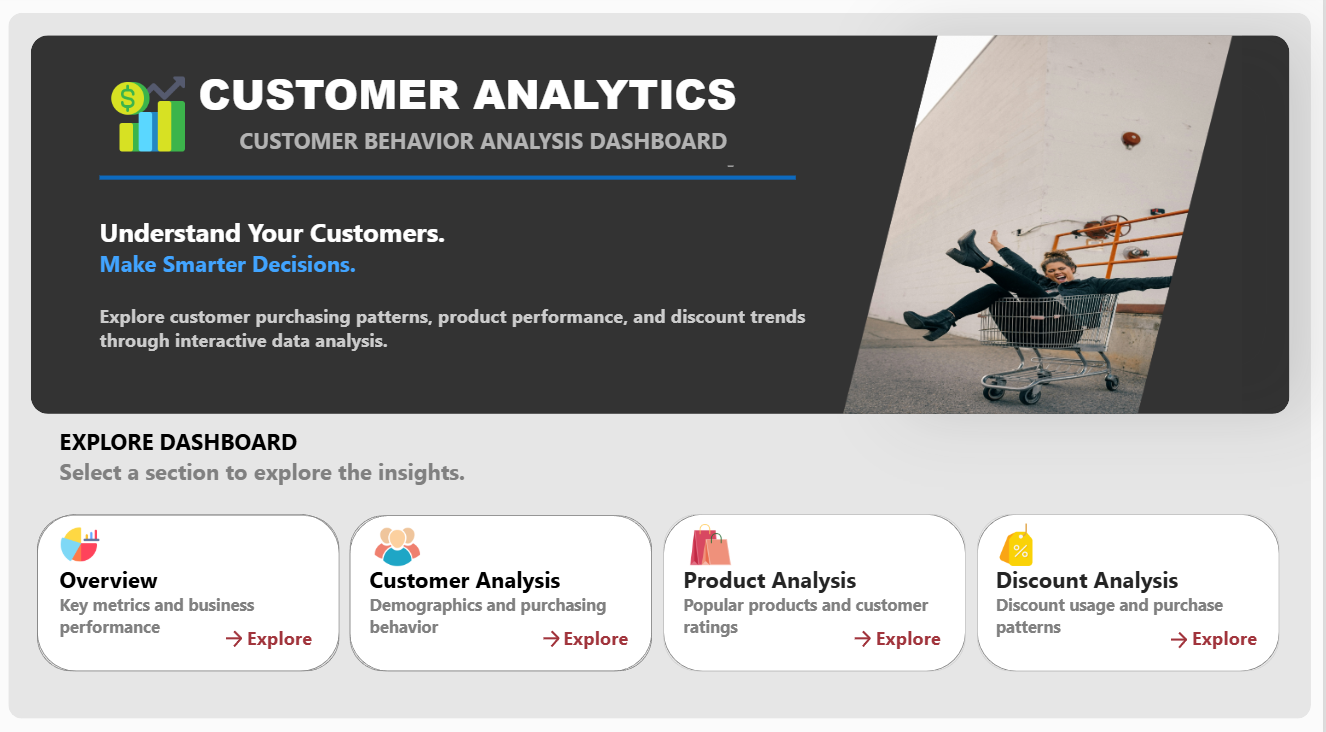

The dashboard page shown, as its layout file describes it:
{"tool":"powerbi","page":{"name":"Landing Page","canvas":[1920,1080],"ordinal":0},"visuals":[{"type":"shape","box":[16,28,1886,1022],"z":0},{"type":"shape","box":[48,60,1822.3,548.3],"z":1000},{"type":"textbox","title":"CUSTOMER ANALYTICS","box":[282,100,798,90],"z":2000},{"type":"textbox","title":"CUSTOMER BEHAVIOR ANALYSIS DASHBOARD","box":[342,190,724,60],"z":3000},{"type":"textbox","box":[148,318,1078,250],"z":4000},{"type":"textbox","box":[90.5,626.1,608,105],"z":5000},{"type":"shape","box":[57.9,752.8,437.9,228],"z":6000},{"type":"shape","box":[510.3,754.6,437.9,226.2],"z":7000},{"type":"shape","box":[964.5,752.8,437.9,228],"z":8000},{"type":"shape","box":[1418.8,752.8,437.9,228],"z":9000},{"type":"textbox","box":[90,826,390,132],"z":10000},{"type":"textbox","box":[540,826,382,132],"z":11000},{"type":"textbox","box":[994,826,384,132],"z":12000},{"type":"textbox","box":[1446,826,386,108],"z":13000},{"type":"image","box":[92,760,56,74],"z":14000},{"type":"image","box":[536,768,88,66],"z":15000},{"type":"image","box":[1000,768,64,60],"z":16000},{"type":"image","box":[1444,760,62,74],"z":17000},{"type":"image","box":[156,98,126,152],"z":18000},{"type":"image","box":[1210,60,592,548],"z":19000},{"type":"shape","box":[148,116,1008,300],"z":20000},{"type":"actionButton","box":[294,914,98,40],"z":21000},{"type":"textbox","box":[362,914,102,44],"z":22000},{"type":"textbox","box":[772,924,126,74],"z":23000},{"type":"textbox","box":[820,914,102,44],"z":24000},{"type":"actionButton","box":[752,914,98,40],"z":25000},{"type":"textbox","box":[1272,914,102,44],"z":26000},{"type":"actionButton","box":[1204,914,98,40],"z":27000},{"type":"textbox","box":[1730,914,102,44],"z":28000},{"type":"actionButton","box":[1662,916,98,40],"z":29000},{"type":"actionButton","box":[58,754,438,226],"z":30000},{"type":"actionButton","box":[510,754,438,226],"z":31000},{"type":"actionButton","box":[964,752,438,228],"z":32000},{"type":"actionButton","box":[1418,752,438,228],"z":33000}]}

Visuals, with their boxes in screenshot pixels (x1, y1, x2, y2), scaled from the page's 1920x1080 canvas onto the 1326x732 screenshot:
shape: rect(11, 19, 1314, 712)
shape: rect(33, 41, 1292, 412)
"CUSTOMER ANALYTICS" textbox: rect(195, 68, 746, 129)
"CUSTOMER BEHAVIOR ANALYSIS DASHBOARD" textbox: rect(236, 129, 736, 169)
textbox: rect(102, 216, 847, 385)
textbox: rect(63, 424, 482, 496)
shape: rect(40, 510, 342, 665)
shape: rect(352, 511, 655, 665)
shape: rect(666, 510, 969, 665)
shape: rect(980, 510, 1282, 665)
textbox: rect(62, 560, 332, 649)
textbox: rect(373, 560, 637, 649)
textbox: rect(686, 560, 952, 649)
textbox: rect(999, 560, 1265, 633)
image: rect(64, 515, 102, 565)
image: rect(370, 521, 431, 565)
image: rect(691, 521, 735, 561)
image: rect(997, 515, 1040, 565)
image: rect(108, 66, 195, 169)
image: rect(836, 41, 1245, 412)
shape: rect(102, 79, 798, 282)
actionButton: rect(203, 619, 271, 647)
textbox: rect(250, 619, 320, 649)
textbox: rect(533, 626, 620, 676)
textbox: rect(566, 619, 637, 649)
actionButton: rect(519, 619, 587, 647)
textbox: rect(878, 619, 949, 649)
actionButton: rect(832, 619, 899, 647)
textbox: rect(1195, 619, 1265, 649)
actionButton: rect(1148, 621, 1216, 648)
actionButton: rect(40, 511, 343, 664)
actionButton: rect(352, 511, 655, 664)
actionButton: rect(666, 510, 968, 664)
actionButton: rect(979, 510, 1282, 664)
